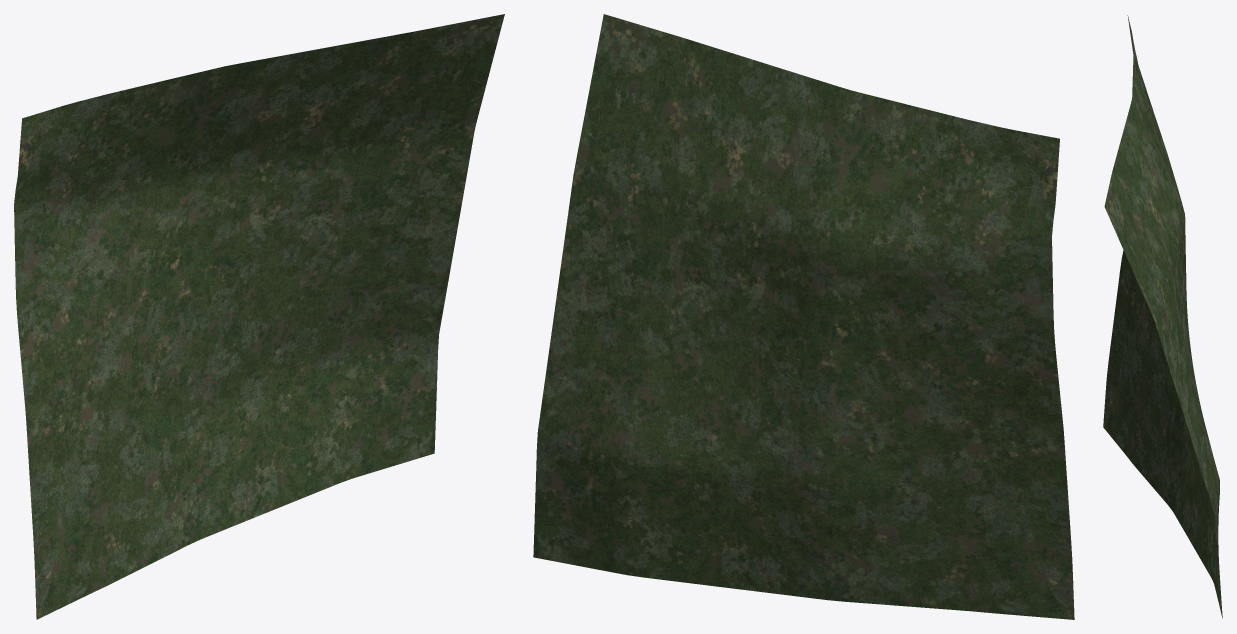
Rendered from terrain_near_02_04.obj.
3 views of the same model, side by side, from view 1: azimuth 30°, elevation 25°; view 2: azimuth 150°, elevation 25°; view 3: azimuth 270°, elevation 25° (orthographic). The views are drawn at different scales.
Parts seen in each view (by area): view 1: terrain_near_02_04; view 2: terrain_near_02_04; view 3: terrain_near_02_04.
Part boxes in pixels (left/top/right/bottom): terrain_near_02_04: left=14, top=14, right=504, bottom=619; terrain_near_02_04: left=533, top=14, right=1074, bottom=619; terrain_near_02_04: left=1103, top=15, right=1222, bottom=618.
Size of the model in its own units: 64 by 64 by 16.78.
Materials: 1 (1 with a texture image).
